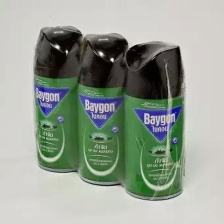aerosol_cans: (120, 37, 188, 202), (73, 29, 131, 189), (29, 21, 85, 175)
